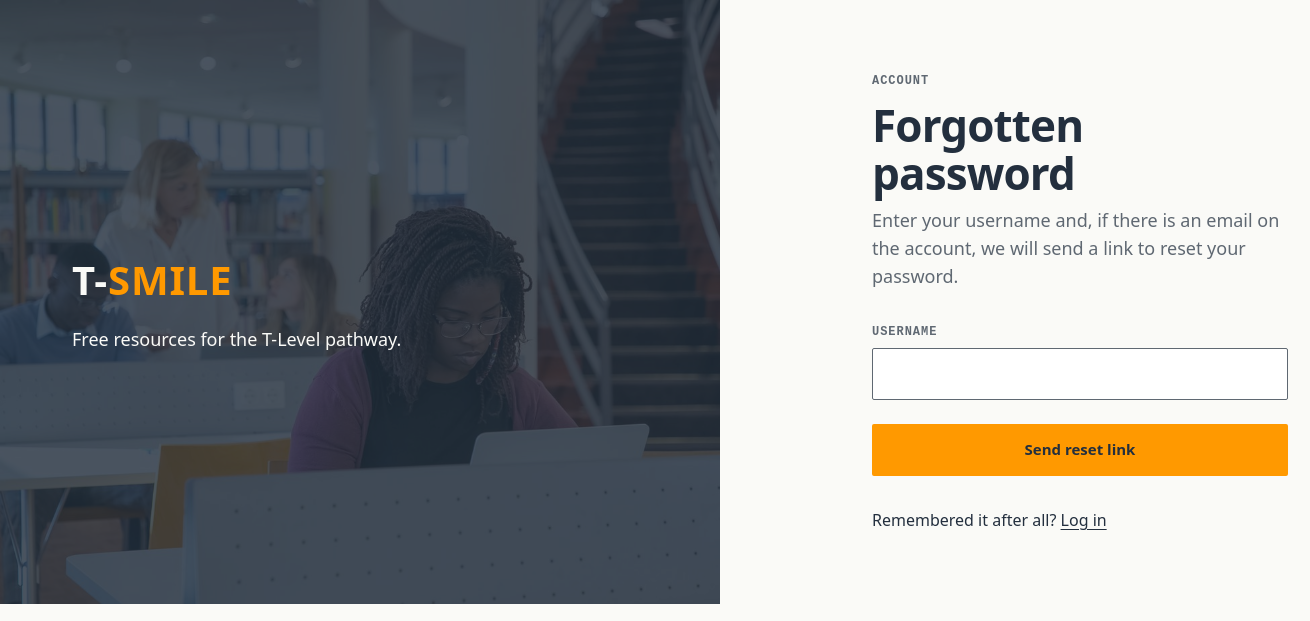
Forgotten password › shows the same generic confirmation, never whether the username exists
Type "somebody-or-nobody" into the field labelled "Username" at (1080, 374), box [872,348,1288,400]
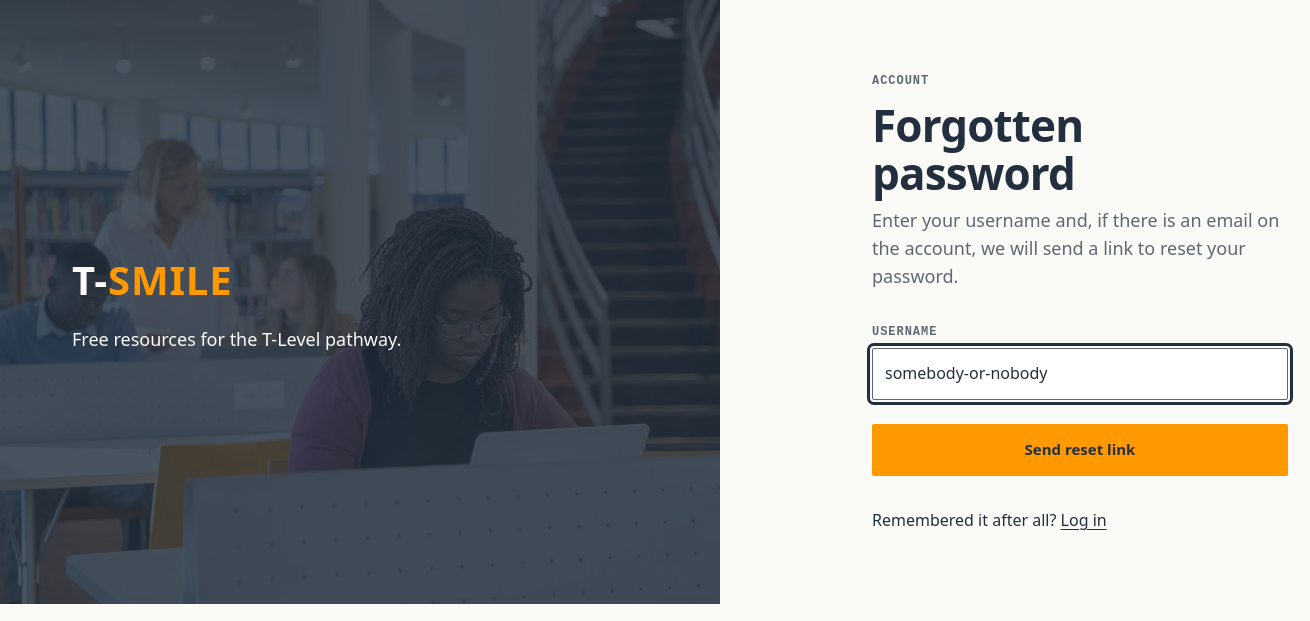
Click the button "Send reset link" at (1080, 450), box [872,424,1288,476]
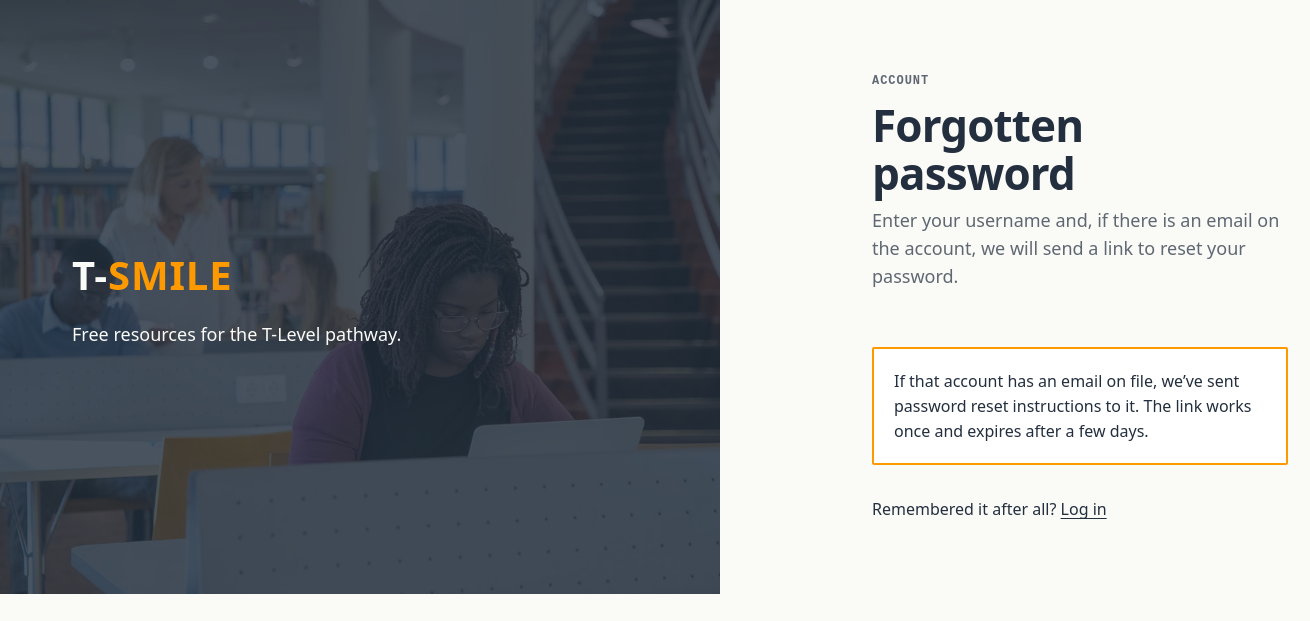
Expected: the message shows "If that account has an email on file", [894,370,1251,442]
